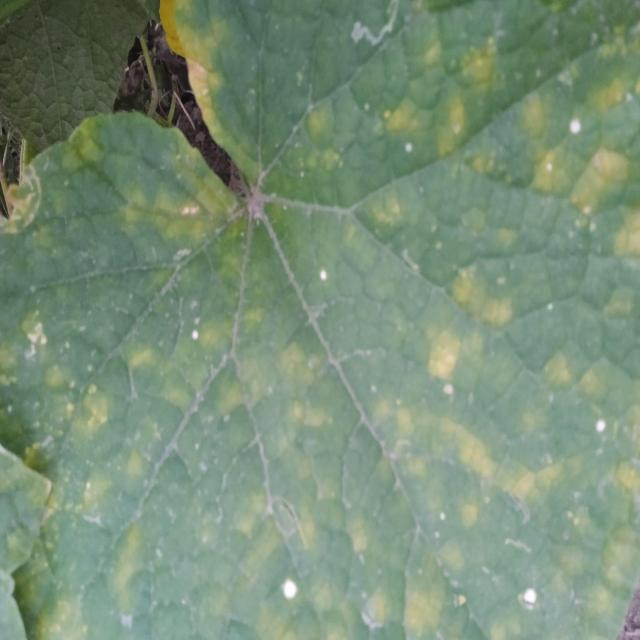cucumber_downy: (6, 5, 640, 640)
